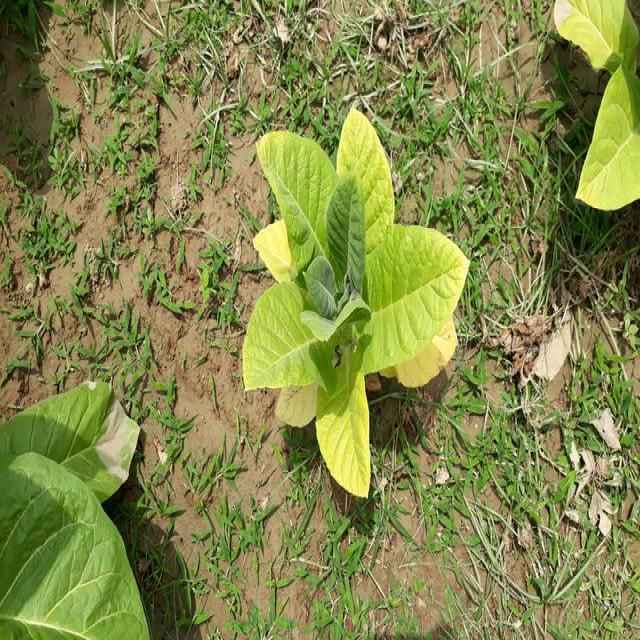crop: (247, 104, 466, 494), (0, 383, 149, 640), (558, 0, 640, 207)
